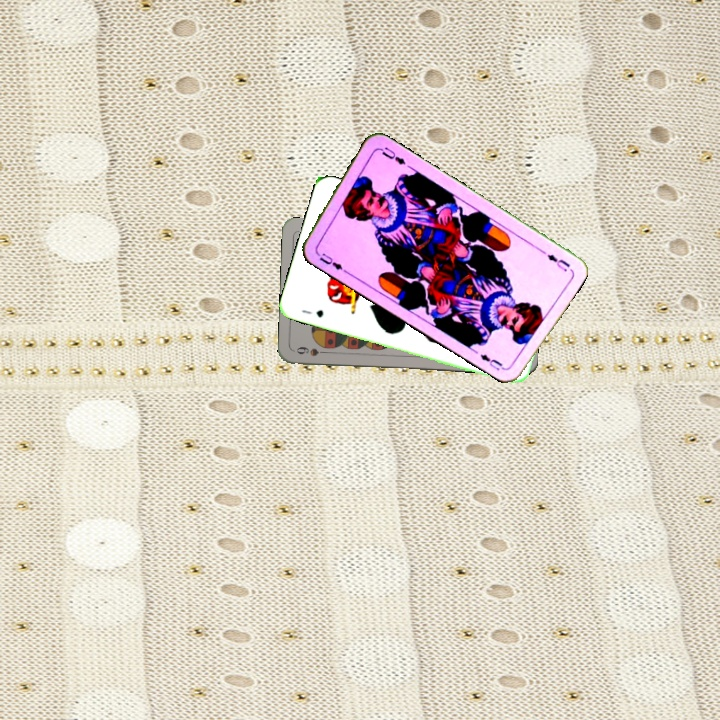EU: (312, 248, 349, 275), (543, 250, 573, 274)
GU: (298, 306, 326, 320)
S9: (292, 342, 333, 359)
